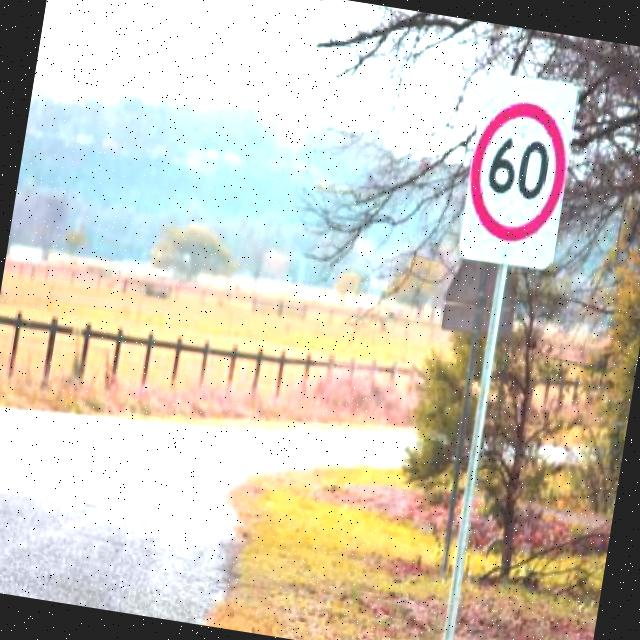Ograniczenie predkosci do 60: (457, 98, 579, 248)
